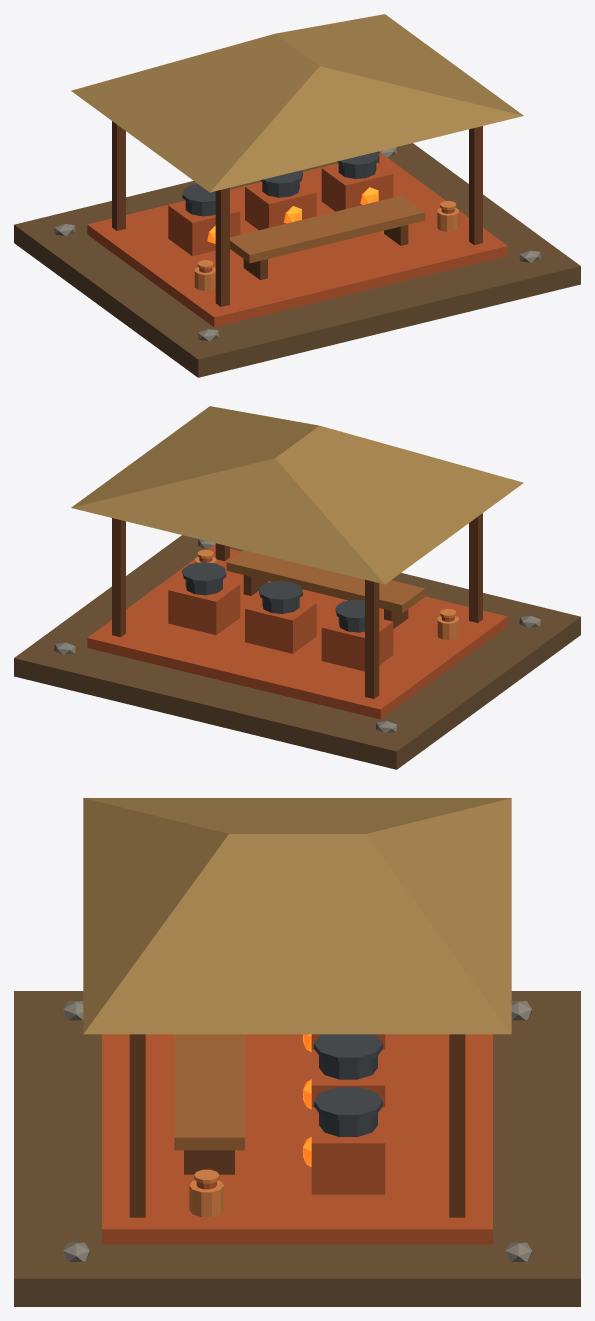
Rendered from communal_kitchen.glb.
3 renders of one model, top to bottom at view 1: azimuth 30°, elevation 25°; view 2: azimuth 150°, elevation 25°; view 3: azimuth 270°, elevation 25°, orthographic. The views are drawn at different scales.
Visible parts, largest first — view 1: CommunalKitchenRoof, Building_Base, CommunalKitchenFloor, PrepTable, ClayStove.002, ClayStove.001, ClayStove, CommunalKitchenPost, CommunalKitchenPost.002, CommunalKitchenPost.001, PotLip; view 2: CommunalKitchenRoof, Building_Base, CommunalKitchenFloor, PrepTable, ClayStove.002, ClayStove.001, ClayStove, CommunalKitchenPost.001, CommunalKitchenPost.003, CommunalKitchenPost, PotLip.002, PotLip.001 (+1 smaller); view 3: CommunalKitchenRoof, Building_Base, CommunalKitchenFloor, PrepTable, ClayStove.002, CommunalKitchenPost.002, CommunalKitchenPost.003, PotLip.002, PotLip.001, ClayStove.001, PrepLeg.001, KitchenJarBody.001 (+2 smaller).
Boxes of the visible parts, bbox=[...] form: CommunalKitchenRoof: bbox=[71, 14, 523, 192]; Building_Base: bbox=[14, 143, 580, 377]; CommunalKitchenFloor: bbox=[87, 153, 507, 327]; PrepTable: bbox=[230, 195, 425, 263]; ClayStove.002: bbox=[321, 162, 393, 211]; ClayStove.001: bbox=[245, 181, 316, 230]; ClayStove: bbox=[168, 201, 240, 256]; CommunalKitchenPost: bbox=[215, 187, 229, 306]; CommunalKitchenPost.002: bbox=[469, 126, 482, 245]; CommunalKitchenPost.001: bbox=[112, 121, 125, 230]; PotLip: bbox=[182, 184, 215, 205]; CommunalKitchenRoof: bbox=[71, 406, 523, 584]; Building_Base: bbox=[14, 535, 580, 769]; CommunalKitchenFloor: bbox=[87, 545, 507, 719]; PrepTable: bbox=[226, 550, 425, 613]; ClayStove.002: bbox=[168, 579, 240, 634]; ClayStove.001: bbox=[245, 597, 316, 653]; ClayStove: bbox=[321, 616, 393, 671]; CommunalKitchenPost.001: bbox=[365, 579, 379, 698]; CommunalKitchenPost.003: bbox=[112, 518, 125, 637]; CommunalKitchenPost: bbox=[469, 513, 482, 622]; PotLip.002: bbox=[182, 562, 226, 584]; PotLip.001: bbox=[259, 581, 302, 602]; CommunalKitchenRoof: bbox=[83, 798, 511, 1034]; Building_Base: bbox=[14, 991, 580, 1306]; CommunalKitchenFloor: bbox=[102, 1034, 492, 1244]; PrepTable: bbox=[174, 1034, 244, 1150]; ClayStove.002: bbox=[311, 1107, 385, 1194]; CommunalKitchenPost.002: bbox=[129, 1034, 145, 1217]; CommunalKitchenPost.003: bbox=[449, 1034, 465, 1217]; PotLip.002: bbox=[314, 1087, 382, 1119]; PotLip.001: bbox=[314, 1034, 382, 1062]; ClayStove.001: bbox=[311, 1049, 385, 1107]; PrepLeg.001: bbox=[184, 1150, 234, 1174]; KitchenJarBody.001: bbox=[189, 1180, 223, 1217].
Size of the model in its own units: 12 by 6.4 by 10.
